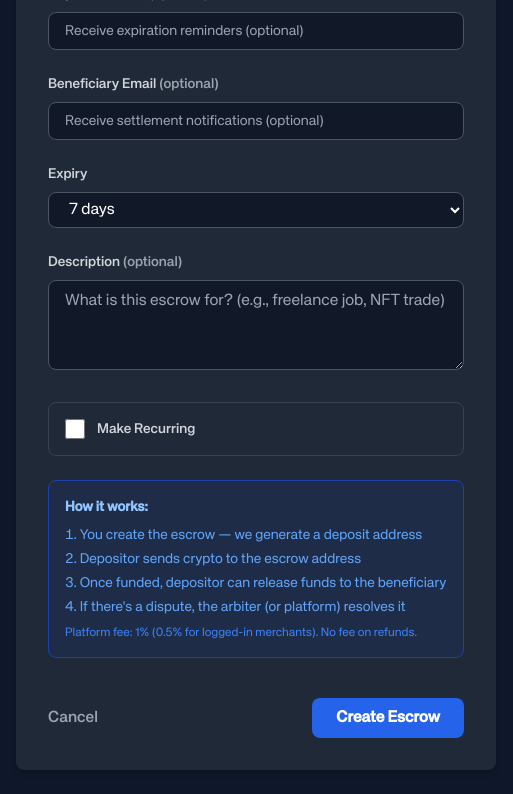
Test: CreateEscrowPage - Make Recurring › shows interval and max periods when checked
(page scrolled)
Step 1. Click the checkbox labelled "Make Recurring" → x=75, y=429, box x1=65 y1=419 x2=85 y2=439
(page scrolled)
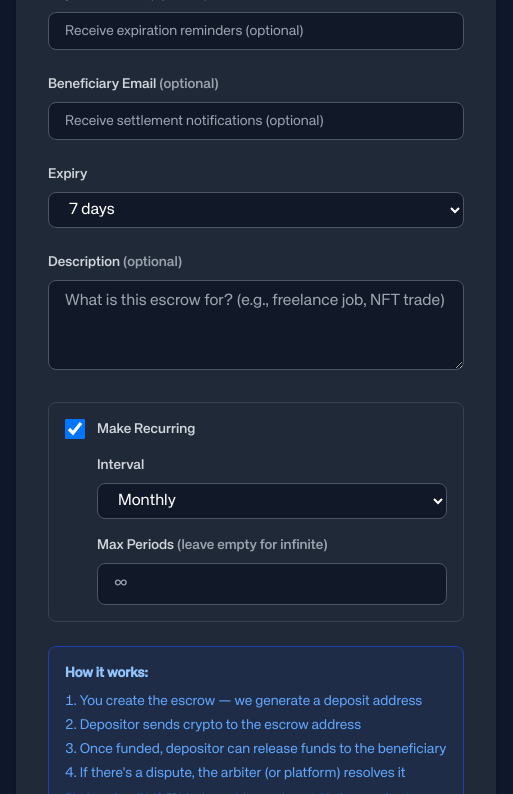
Expected: the dropdown labelled "Interval" is shown, x1=97 y1=483 x2=447 y2=519
Expected: the number field labelled "Max Periods (leave empty for infinite)" is shown, x1=97 y1=563 x2=447 y2=605
